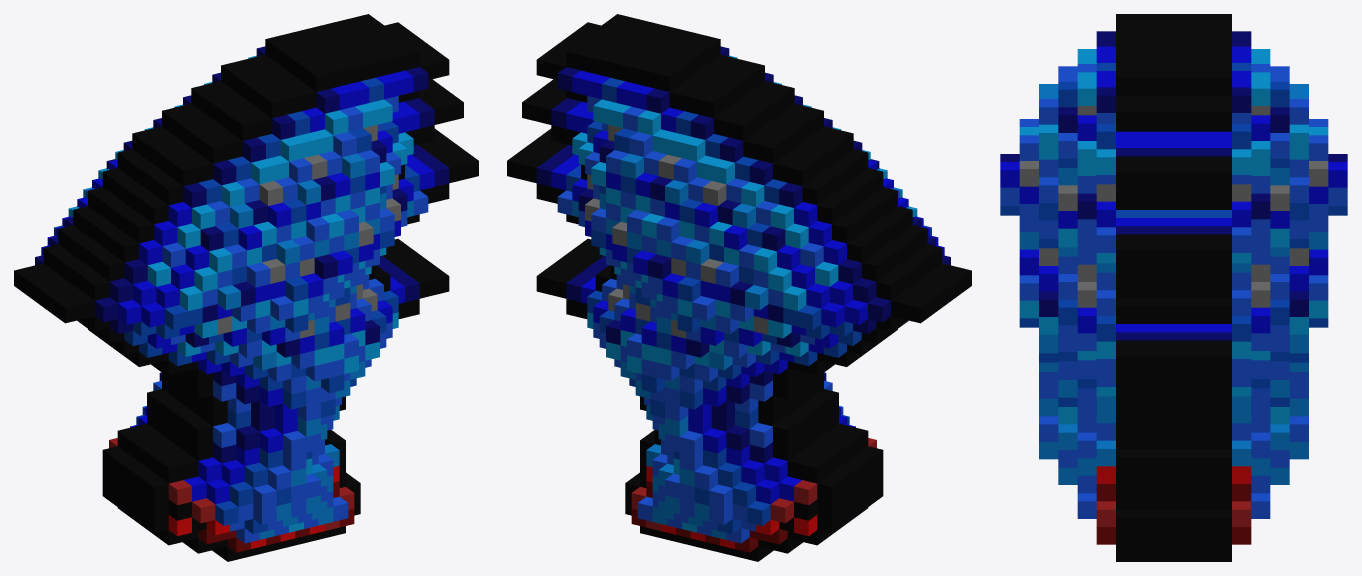
The model's file is big_elec_dragon_wing.glb.
3 views of the same model, side by side, from view 1: azimuth 30°, elevation 25°; view 2: azimuth 150°, elevation 25°; view 3: azimuth 270°, elevation 25° (orthographic). The views are drawn at different scales.
Bounding box in the file's own units: 0.875 × 0.9375 × 0.5625.
